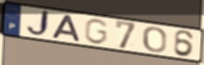6: (173, 29, 195, 59)
7: (114, 19, 137, 51)
A: (50, 14, 83, 43)
G: (83, 18, 110, 46)
J: (25, 9, 52, 38)
O: (142, 26, 168, 54)
